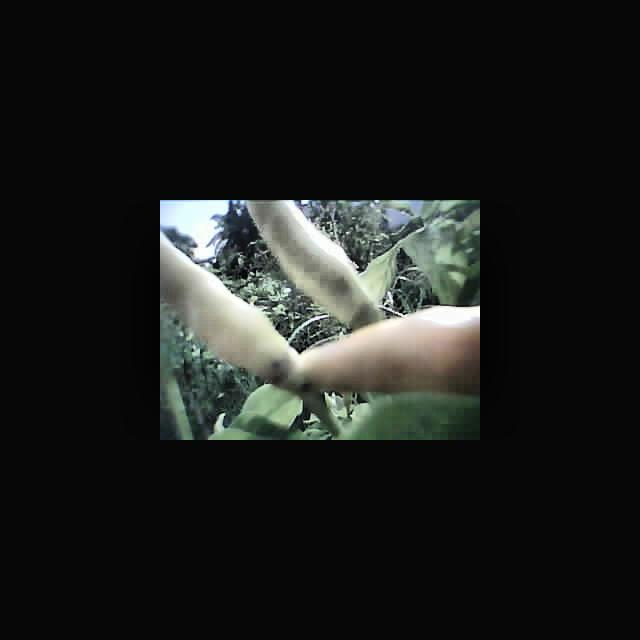Cabai: (298, 308, 480, 391)
